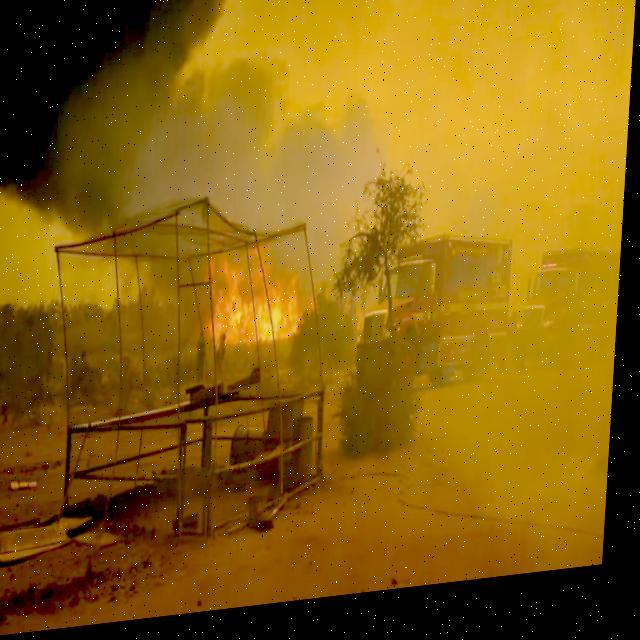Fire: (200, 235, 320, 368)
